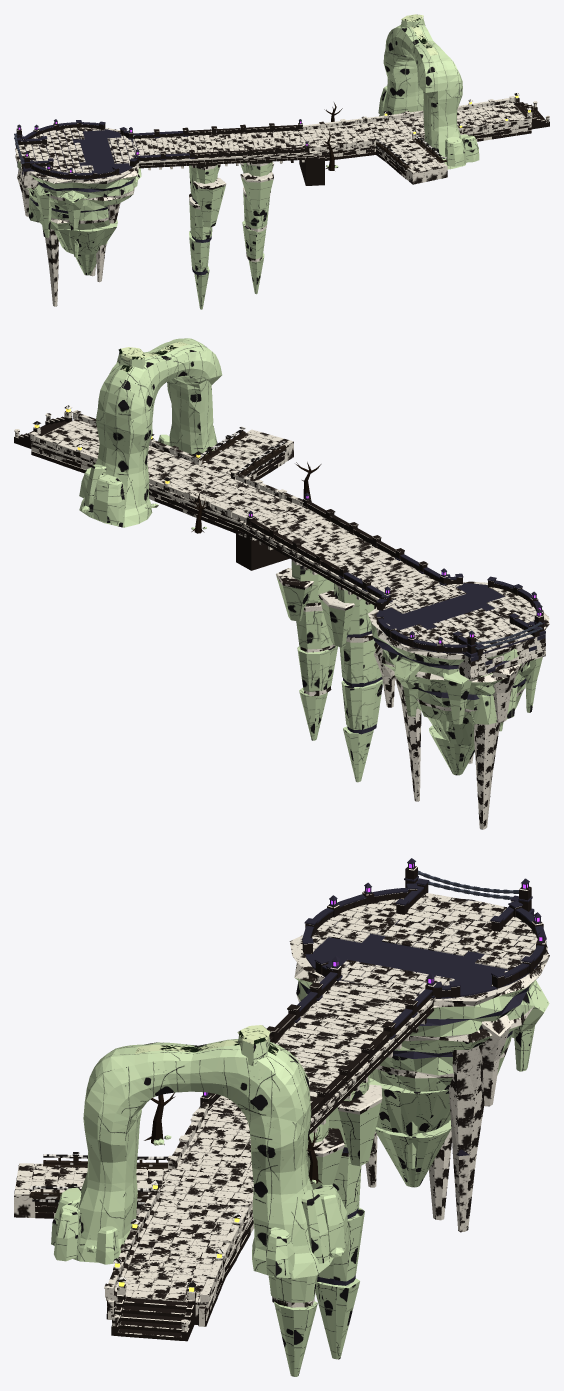
Rendered from ILHA2_08_NEXT_ISLAND_1d00de.fbx.
The picture shows the model from 3 angles, top to bottom: view 1: azimuth 30°, elevation 25°; view 2: azimuth 150°, elevation 25°; view 3: azimuth 270°, elevation 25°; orthographic projection. The views are drawn at different scales.
Parts seen in each view (by area): view 1: DB_Exit_Islet__Stone_DB_Dusk, DB_Exit_Islet__Cliff_Rock_DB_Dusk, DB_Exit_Arch__Cliff_Rock_DB, DB_Exit_Bridge__Stone_DB_Dusk, DB_Exit_Trail__Stone_Paving_DB, DB_Exit_Islet__P_Shadow_Stone, DB_Exit_Bridge__Cliff_Rock_DB_Dusk, DB_Exit_Bridge__Cliff_Rock_DB_C, DB_Exit_Trail__Stone_DB_Block_B, DB_Exit_Bridge__Stone_DB_Block_B, DB_Exit_Trail__Stone_Paving_DB_B, DB_Exit_Arch__Cliff_Rock_DB_Top (+8 smaller); view 2: DB_Exit_Islet__Stone_DB_Dusk, DB_Exit_Arch__Cliff_Rock_DB, DB_Exit_Islet__Cliff_Rock_DB_Dusk, DB_Exit_Trail__Stone_Paving_DB, DB_Exit_Bridge__Stone_DB_Dusk, DB_Exit_Bridge__Cliff_Rock_DB_Dusk, DB_Exit_Bridge__Cliff_Rock_DB_C, DB_Exit_Islet__P_Shadow_Stone, DB_Exit_Trail__Stone_DB_Block_B, DB_Exit_Trail__Stone_Paving_DB_B, DB_Exit_Arch__Cliff_Rock_DB_Dark, DB_Exit_Arch__Cliff_Rock_DB_Top (+8 smaller); view 3: DB_Exit_Islet__Stone_DB_Dusk, DB_Exit_Arch__Cliff_Rock_DB, DB_Exit_Trail__Stone_Paving_DB, DB_Exit_Islet__Cliff_Rock_DB_Dusk, DB_Exit_Bridge__Stone_DB_Dusk, DB_Exit_Islet__P_Shadow_Stone, DB_Exit_Trail__Stone_Paving_DB_B, DB_Exit_Bridge__Cliff_Rock_DB_Dusk, DB_Exit_Arch__Cliff_Rock_DB_Dark, DB_Exit_Arch__Cliff_Rock_DB_Top, DB_Exit_Trail__Stone_DB_Block_B, DB_Exit_Bridge__Cliff_Rock_DB_C (+11 smaller).
Part boxes in pixels (box(x1,y1,x2,y2)): DB_Exit_Islet__Stone_DB_Dusk: box(15, 123, 139, 306); DB_Exit_Islet__Cliff_Rock_DB_Dusk: box(17, 161, 141, 275); DB_Exit_Arch__Cliff_Rock_DB: box(334, 18, 479, 167); DB_Exit_Bridge__Stone_DB_Dusk: box(128, 127, 297, 209); DB_Exit_Trail__Stone_Paving_DB: box(301, 95, 549, 169); DB_Exit_Islet__P_Shadow_Stone: box(15, 119, 140, 213); DB_Exit_Bridge__Cliff_Rock_DB_Dusk: box(189, 164, 225, 309); DB_Exit_Bridge__Cliff_Rock_DB_C: box(240, 161, 273, 294); DB_Exit_Trail__Stone_DB_Block_B: box(303, 97, 549, 179); DB_Exit_Bridge__Stone_DB_Block_B: box(134, 123, 324, 262); DB_Exit_Trail__Stone_Paving_DB_B: box(309, 97, 545, 173); DB_Exit_Arch__Cliff_Rock_DB_Top: box(383, 25, 475, 146); DB_Exit_Islet__Stone_DB_Dusk: box(368, 577, 549, 829); DB_Exit_Arch__Cliff_Rock_DB: box(79, 350, 222, 529); DB_Exit_Islet__Cliff_Rock_DB_Dusk: box(370, 621, 542, 775); DB_Exit_Trail__Stone_Paving_DB: box(14, 410, 299, 521); DB_Exit_Bridge__Stone_DB_Dusk: box(250, 511, 447, 642); DB_Exit_Bridge__Cliff_Rock_DB_Dusk: box(319, 583, 382, 782); DB_Exit_Bridge__Cliff_Rock_DB_C: box(277, 562, 337, 740); DB_Exit_Islet__P_Shadow_Stone: box(373, 573, 545, 748); DB_Exit_Trail__Stone_DB_Block_B: box(15, 412, 298, 540); DB_Exit_Trail__Stone_Paving_DB_B: box(28, 408, 303, 515); DB_Exit_Arch__Cliff_Rock_DB_Dark: box(79, 350, 213, 529); DB_Exit_Arch__Cliff_Rock_DB_Top: box(83, 338, 214, 489); DB_Exit_Islet__Stone_DB_Dusk: box(289, 883, 549, 1232); DB_Exit_Arch__Cliff_Rock_DB: box(51, 1035, 348, 1276); DB_Exit_Trail__Stone_Paving_DB: box(15, 1112, 253, 1332); DB_Exit_Islet__Cliff_Rock_DB_Dusk: box(295, 978, 549, 1187); DB_Exit_Bridge__Stone_DB_Dusk: box(215, 966, 436, 1156); DB_Exit_Islet__P_Shadow_Stone: box(299, 878, 546, 1156); DB_Exit_Trail__Stone_Paving_DB_B: box(14, 1102, 253, 1340); DB_Exit_Bridge__Cliff_Rock_DB_Dusk: box(315, 1075, 381, 1359); DB_Exit_Arch__Cliff_Rock_DB_Dark: box(73, 1071, 333, 1278); DB_Exit_Arch__Cliff_Rock_DB_Top: box(57, 1039, 339, 1244); DB_Exit_Trail__Stone_DB_Block_B: box(14, 1109, 253, 1336); DB_Exit_Bridge__Cliff_Rock_DB_C: box(268, 1115, 343, 1376).
Bounding box in the file's own units: 191 × 104 × 99.68.
Materials: 10 (6 with a texture image).
